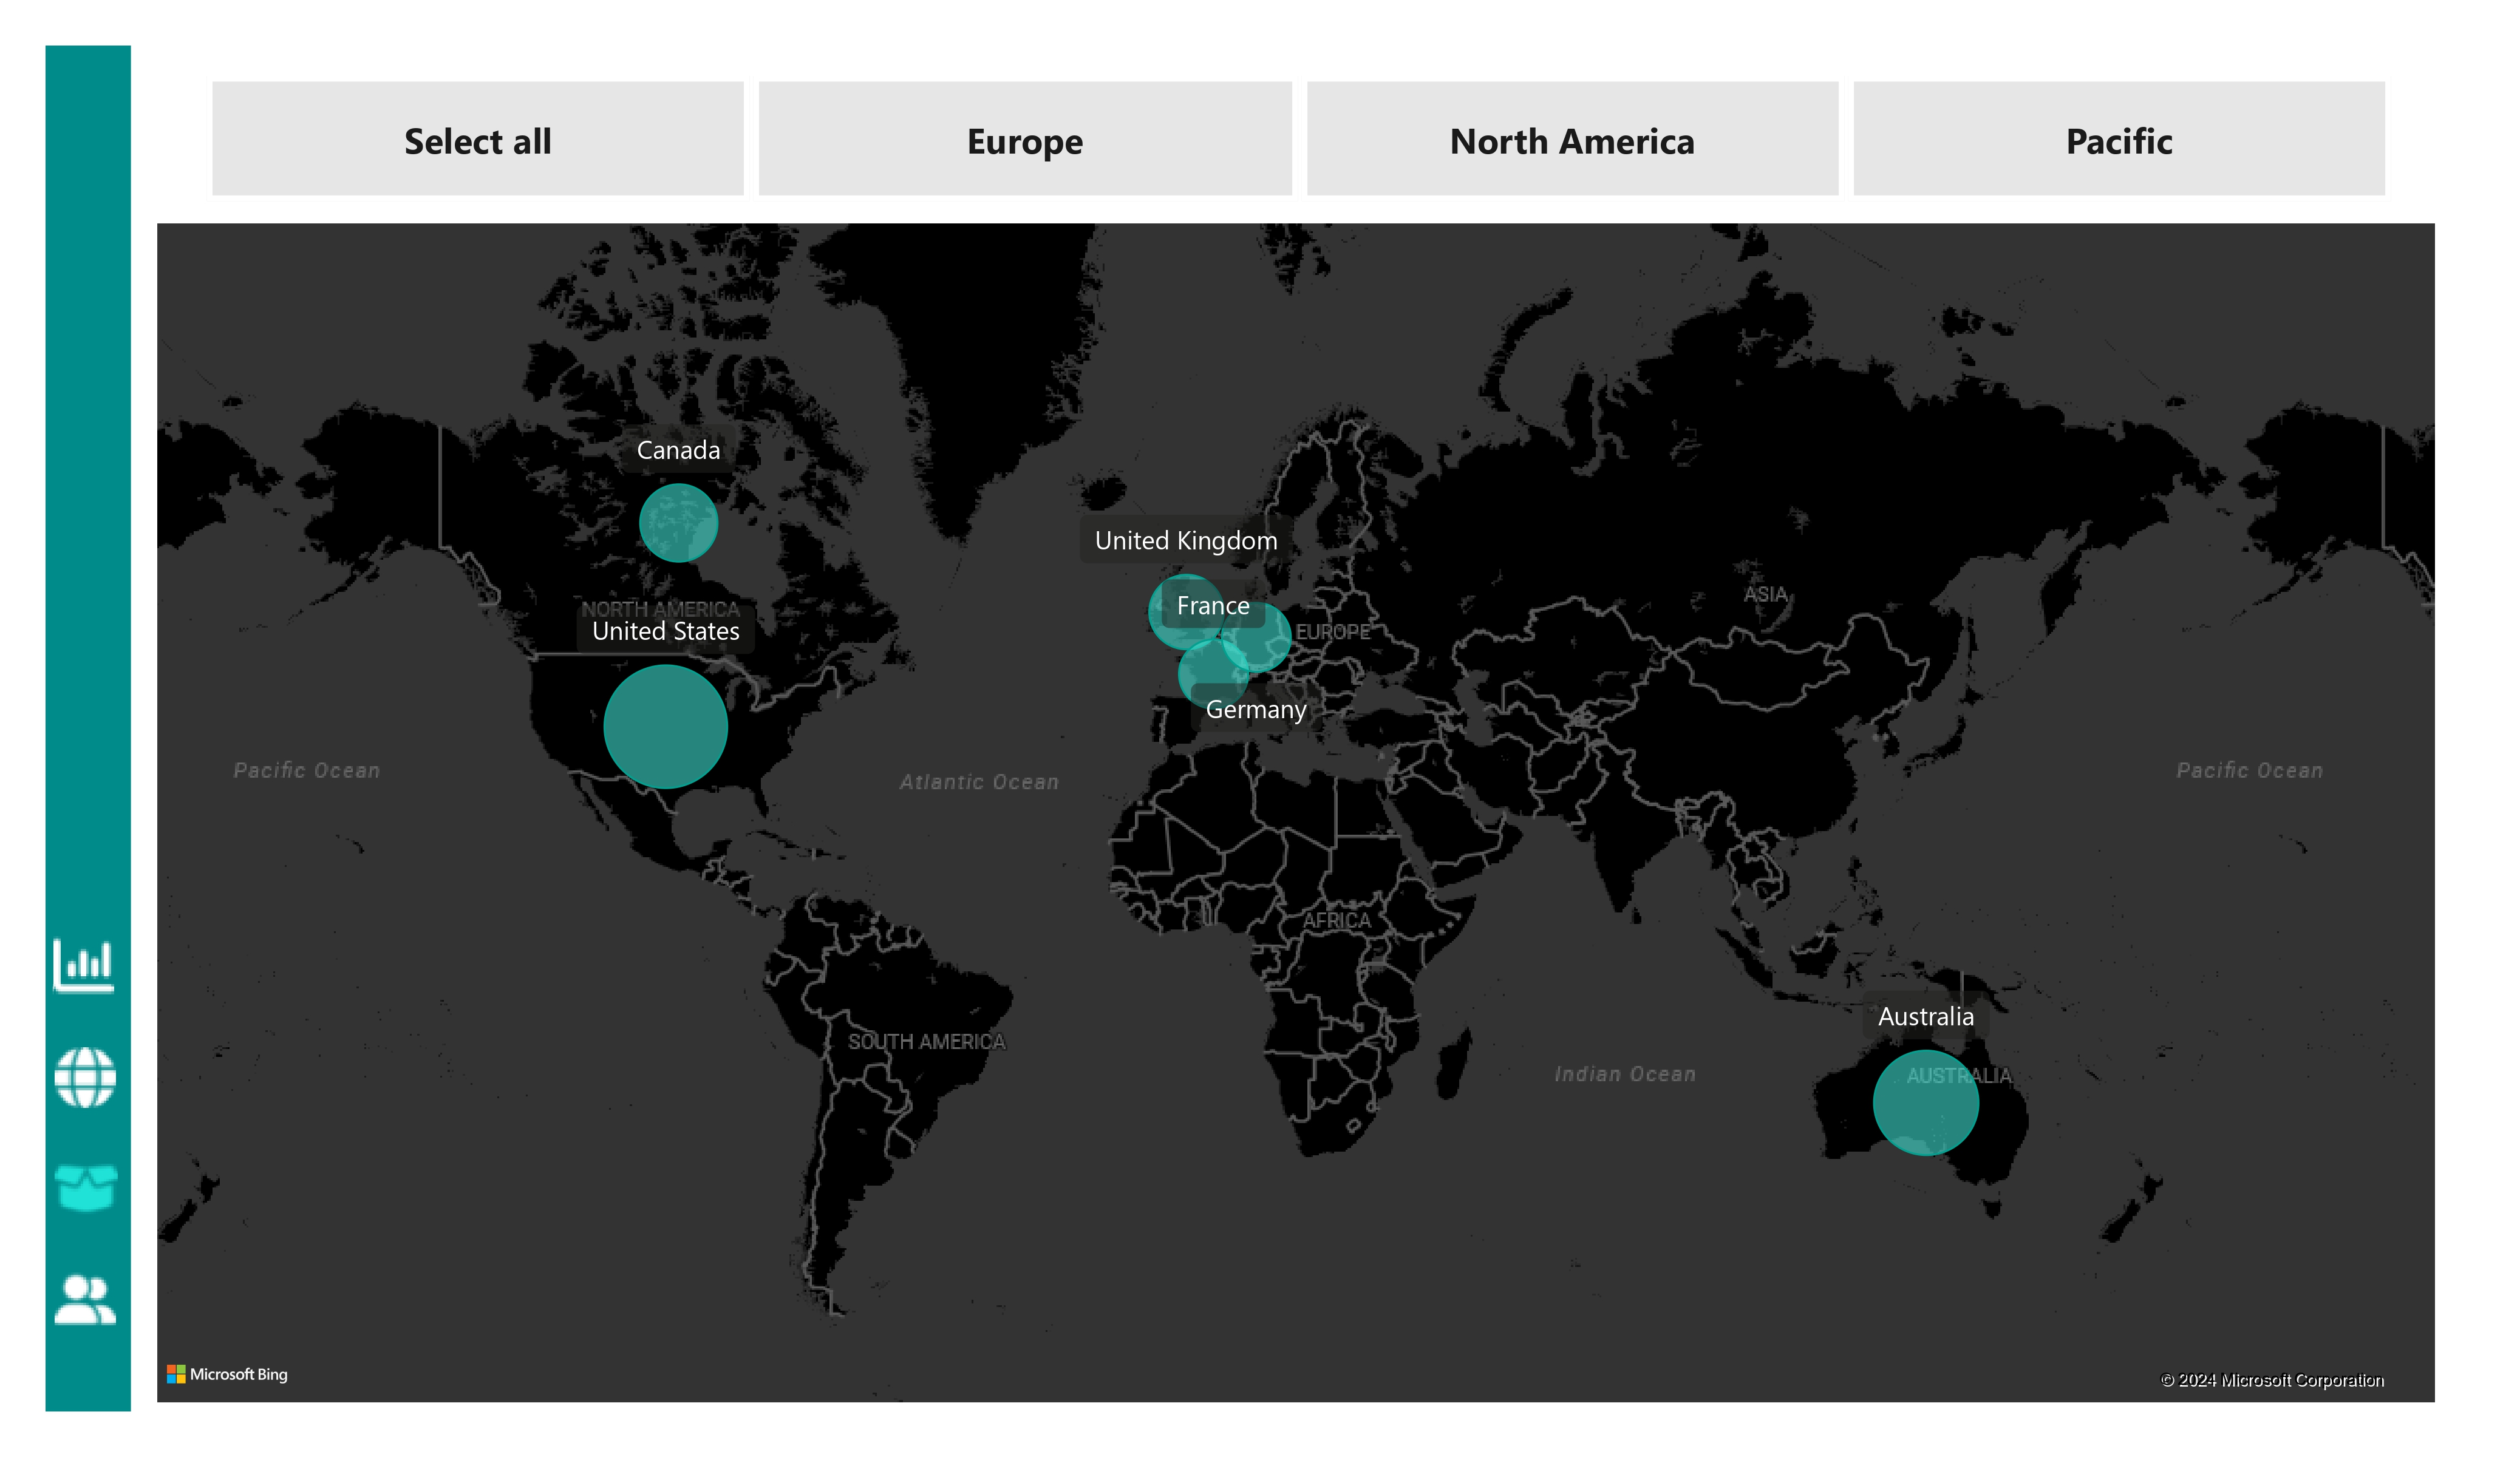

What the dashboard file says about the page in this screenshot:
{"tool":"powerbi","page":{"name":"Map","canvas":[1280,720],"ordinal":1},"visuals":[{"type":"shape","box":[0,0,45,720.2],"z":0},{"type":"actionButton","box":[0,464.7,45.2,40.4],"z":0,"group":"g1"},{"type":"actionButton","box":[1.2,523.4,45.2,40.4],"z":1000,"group":"g1"},{"type":"map","fields":{"Category":["Territory Lookup.Country"],"Size":["Measure Table.Total No: of Orders"]},"box":[53.8,89.3,1210.6,631],"z":1000},{"type":"slicer","fields":{"Values":["Territory Lookup.Continent"]},"box":[58.7,8.6,1200.8,80.7],"z":2000},{"type":"actionButton","box":[1.2,582.1,45.2,40.4],"z":2000,"group":"g1"},{"type":"actionButton","box":[1.2,640.5,45.2,40.4],"z":3000,"group":"g1"},{"type":"group","id":"g1","title":"navigation buttons","box":[0,464.7,46.5,216.2],"z":3000}]}

Visuals, with their boxes in screenshot pixels (x1, y1, x2, y2):
shape: {"x1": 46, "y1": 46, "x2": 131, "y2": 1411}
actionButton: {"x1": 46, "y1": 927, "x2": 131, "y2": 1004}
actionButton: {"x1": 48, "y1": 1039, "x2": 134, "y2": 1115}
map - Territory Lookup.Country x Measure Table.Total No: of Orders: {"x1": 148, "y1": 215, "x2": 2445, "y2": 1411}
slicer - Territory Lookup.Continent: {"x1": 157, "y1": 62, "x2": 2436, "y2": 215}
actionButton: {"x1": 48, "y1": 1150, "x2": 134, "y2": 1226}
actionButton: {"x1": 48, "y1": 1261, "x2": 134, "y2": 1337}
"navigation buttons" group: {"x1": 46, "y1": 927, "x2": 134, "y2": 1337}
